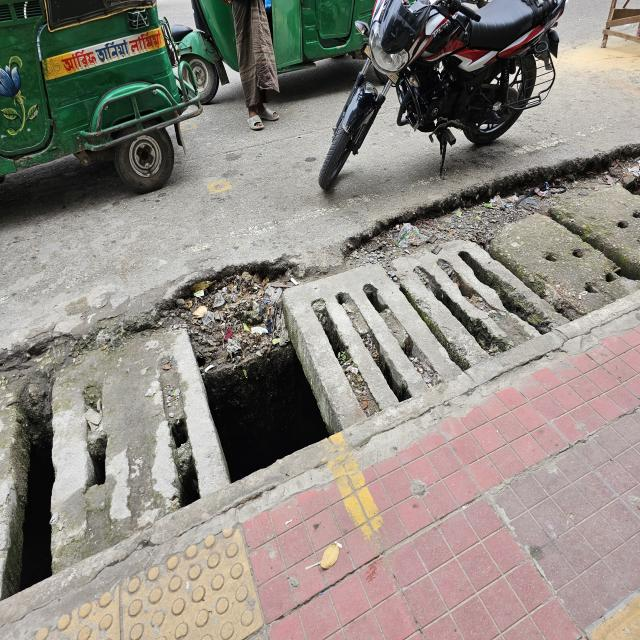drain_inlet: (206, 341, 331, 485)
